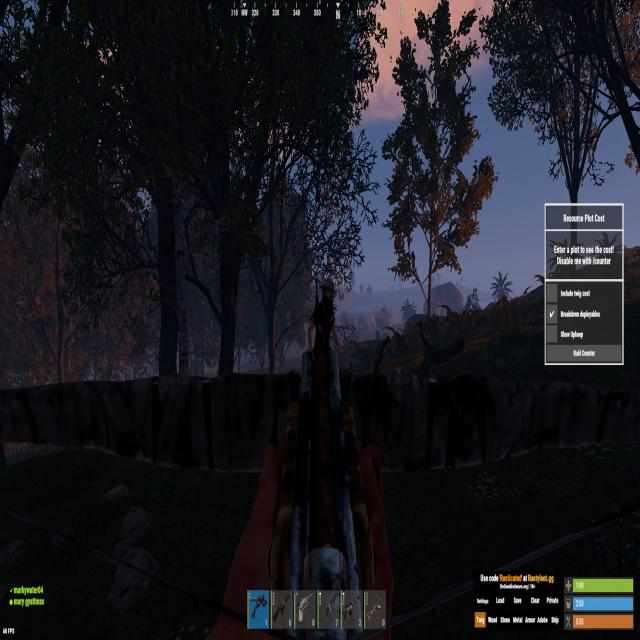Player: (308, 278, 344, 368)
